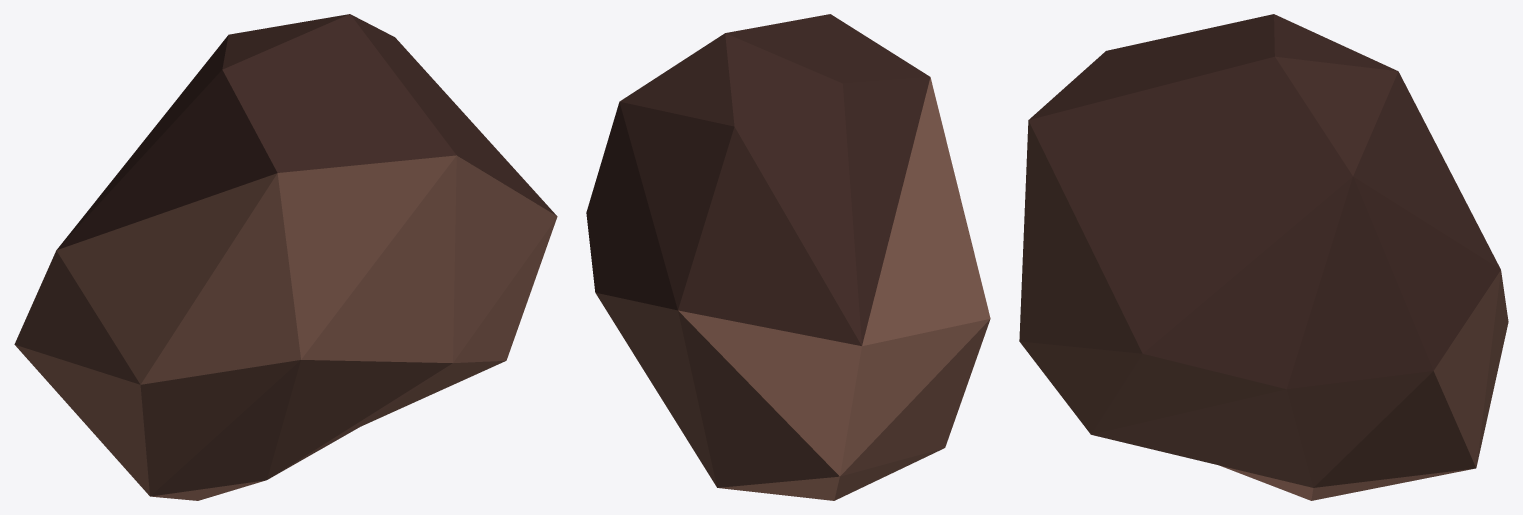
File: Brown_stone_002.fbx
3 views of the same model, side by side, from view 1: azimuth 30°, elevation 25°; view 2: azimuth 150°, elevation 25°; view 3: azimuth 270°, elevation 25° (orthographic). The views are drawn at different scales.
Parts seen in each view (by area): view 1: Brown_stone_002; view 2: Brown_stone_002; view 3: Brown_stone_002.
Part boxes in pixels (x1,y1,x2,y2): Brown_stone_002: (14, 14, 557, 500); Brown_stone_002: (586, 14, 990, 500); Brown_stone_002: (1019, 14, 1508, 500).
Bounding box in the file's own units: 154 × 147 × 172.
